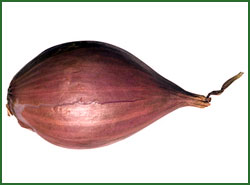onion: (6, 40, 243, 150)
